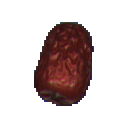gd: (14, 6, 96, 111)
